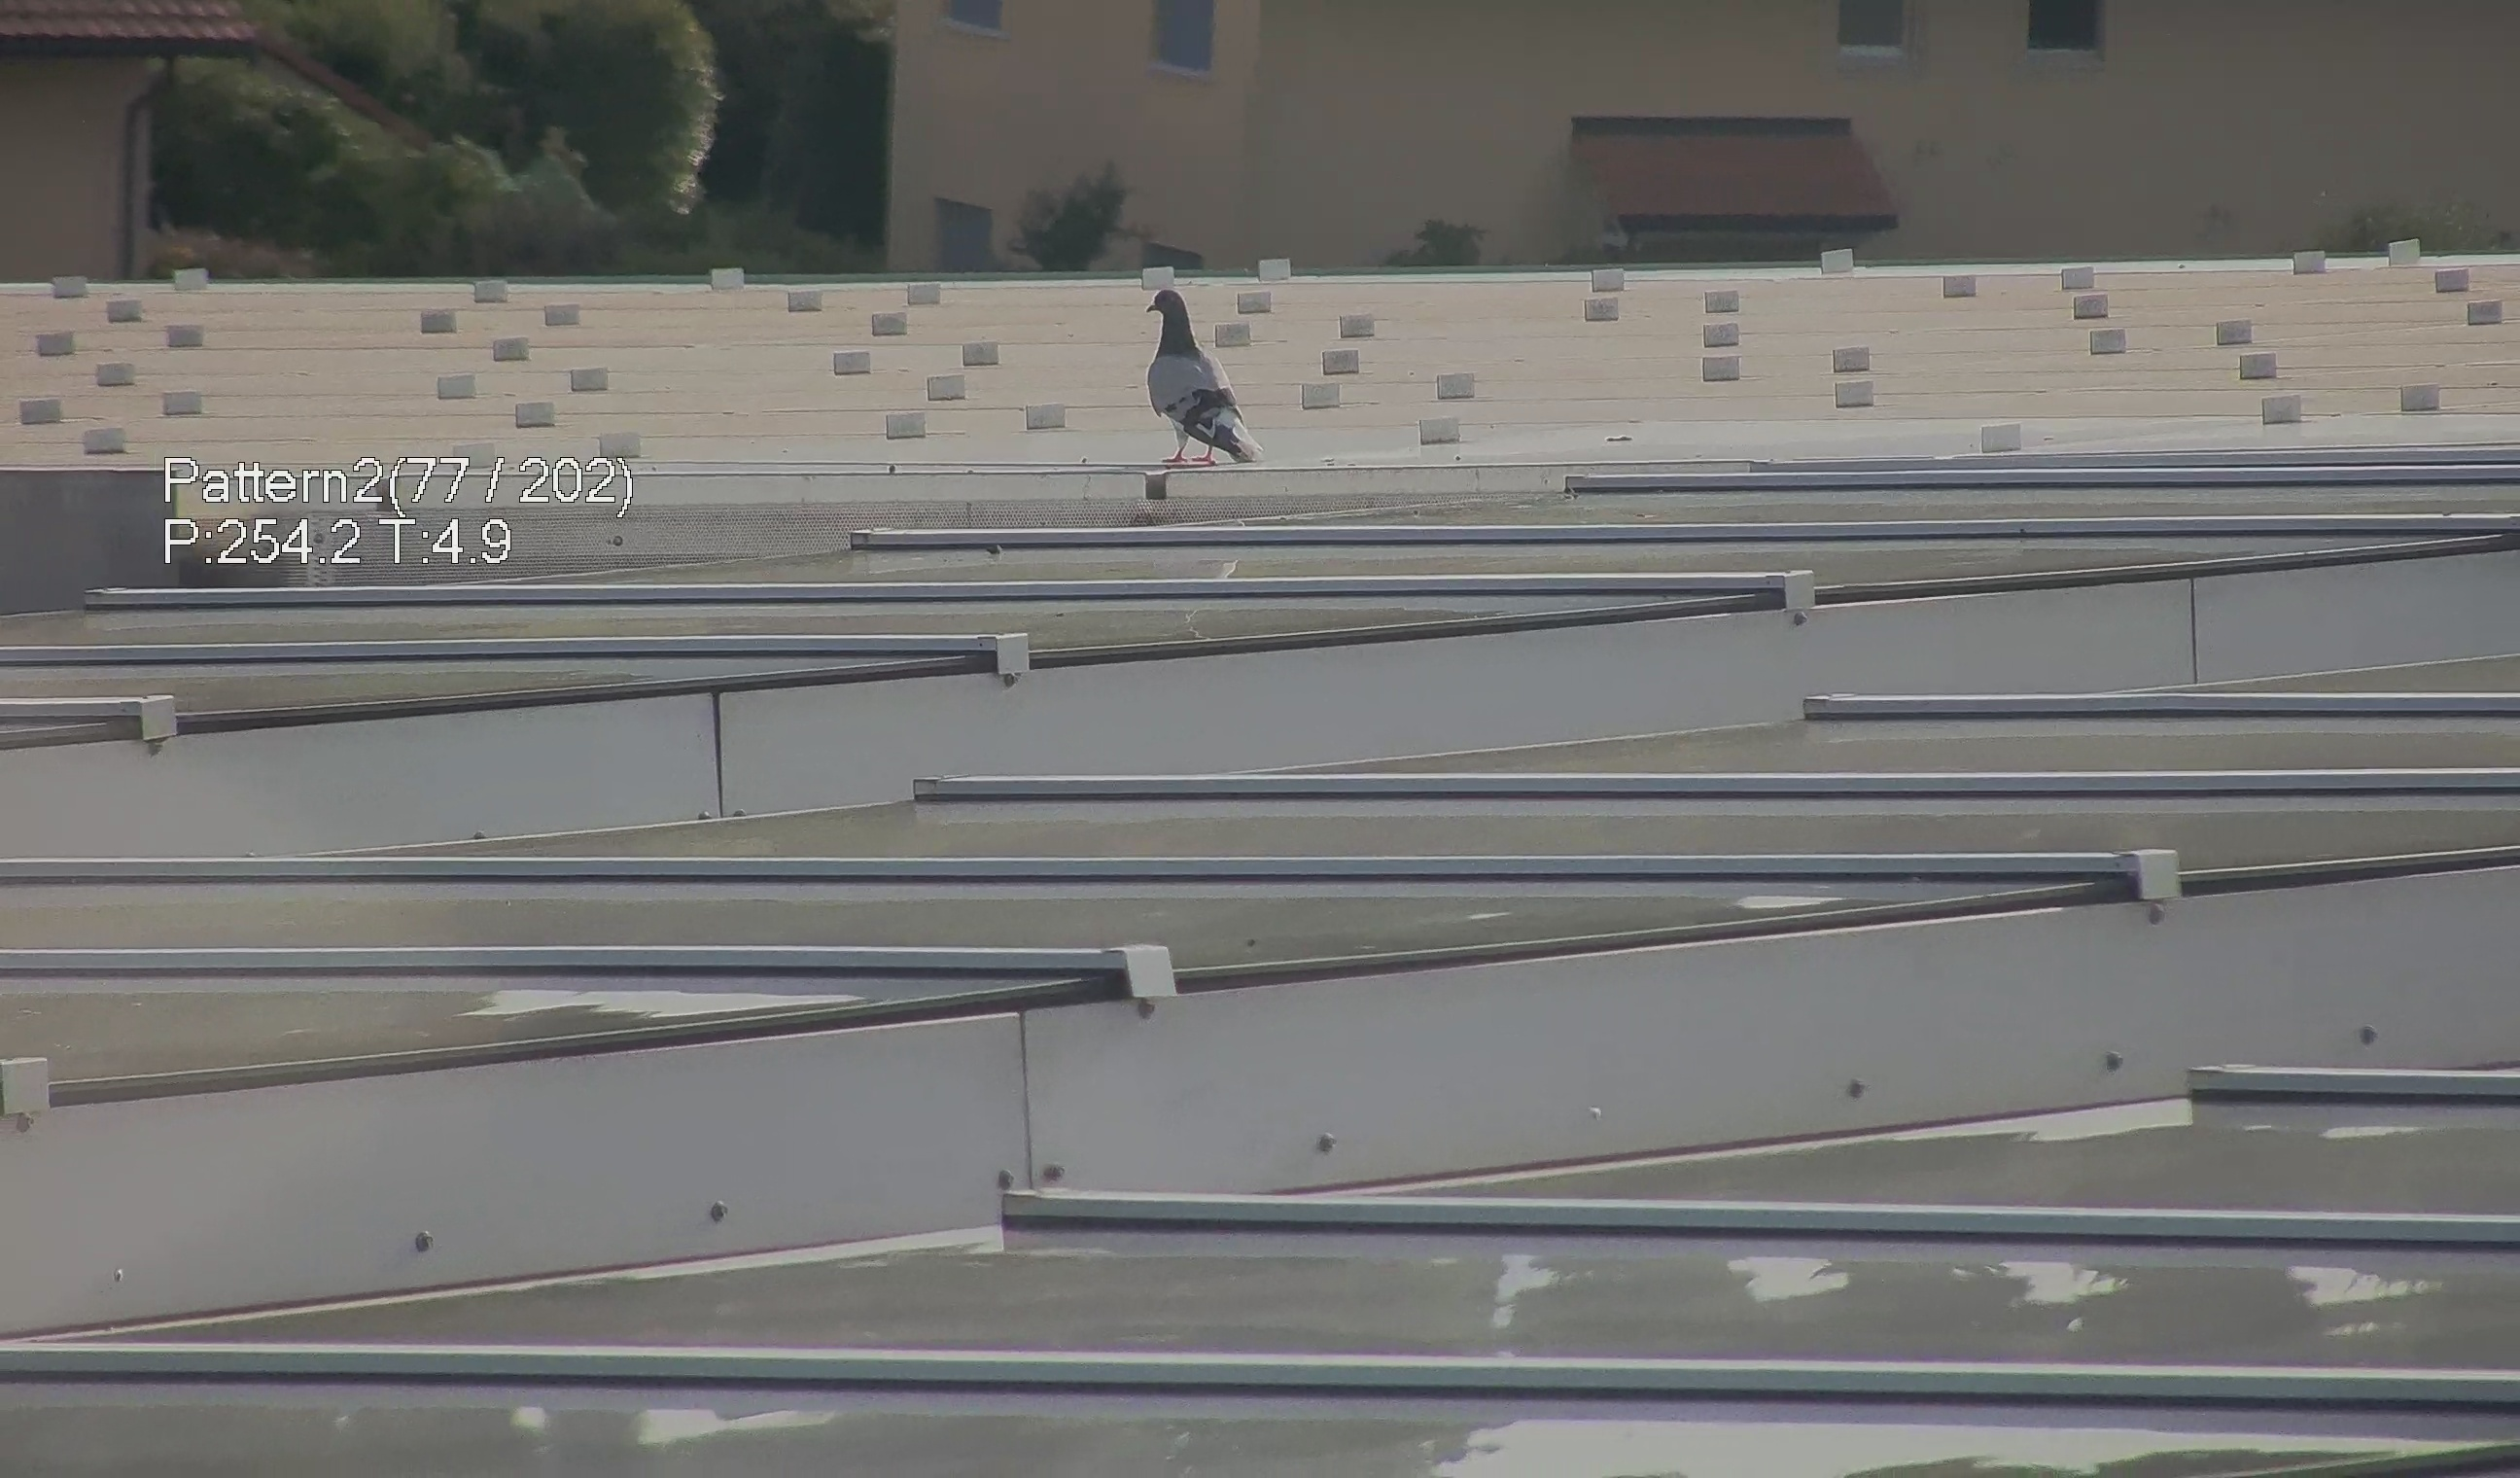Pigeon: (1125, 267, 1264, 465)
